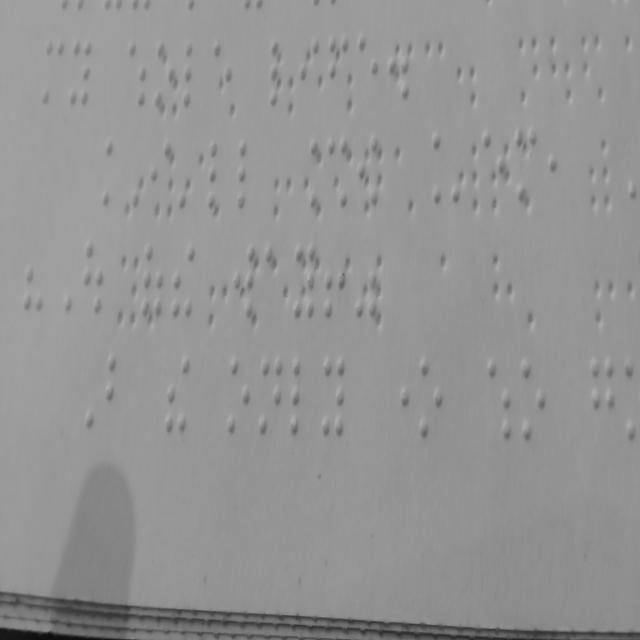braiile: (588, 349, 622, 456), (520, 350, 549, 454), (318, 347, 348, 445), (418, 348, 446, 442), (230, 237, 258, 324), (235, 130, 262, 220), (226, 351, 251, 445), (480, 124, 507, 208), (256, 352, 282, 439), (289, 351, 314, 438), (268, 29, 294, 112), (182, 36, 208, 118), (211, 32, 236, 116), (149, 132, 174, 216), (290, 240, 316, 320), (356, 27, 380, 113), (208, 134, 232, 218), (152, 36, 178, 113), (326, 31, 350, 114), (101, 132, 125, 215), (264, 240, 288, 322), (298, 32, 322, 112), (41, 32, 66, 108), (69, 36, 94, 112)
